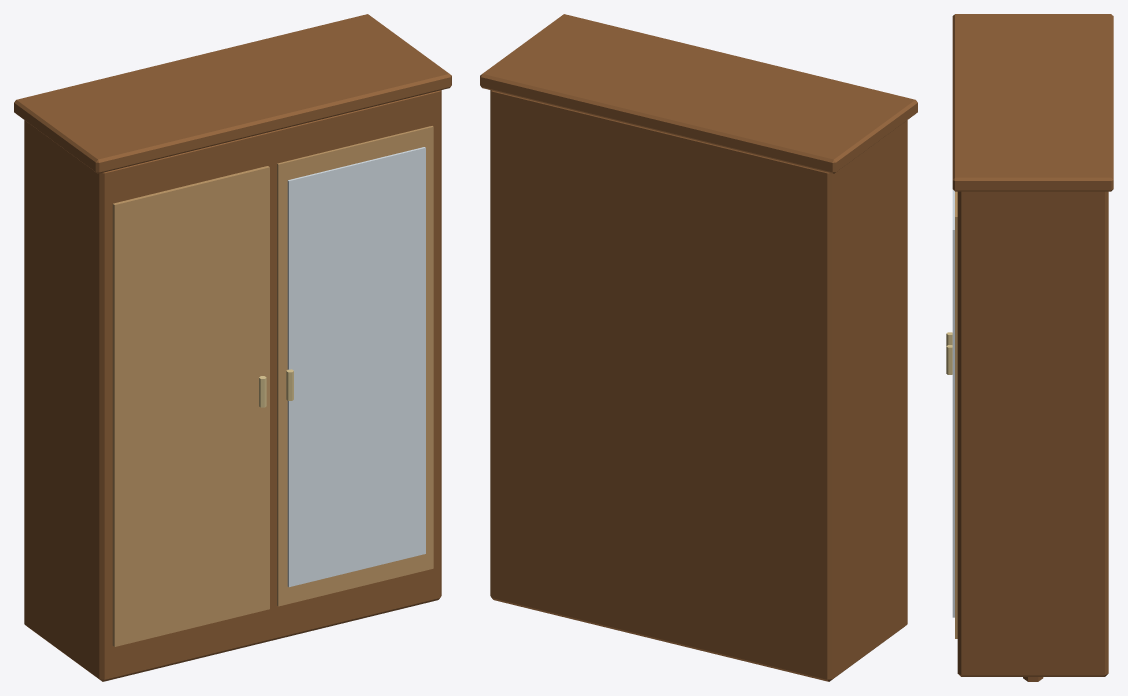
Rendered from wardrobe.glb.
3 renders of one model, left to right at view 1: azimuth 30°, elevation 25°; view 2: azimuth 150°, elevation 25°; view 3: azimuth 270°, elevation 25°, orthographic. The views are drawn at different scales.
Parts seen in each view (by area): view 1: wardrobe; view 2: wardrobe; view 3: wardrobe.
Part boxes in pixels (left/top/right/bottom): wardrobe: left=14, top=14, right=451, bottom=681; wardrobe: left=480, top=14, right=917, bottom=681; wardrobe: left=946, top=14, right=1113, bottom=681.
Bounding box in the file's own units: 1.56 × 2.25 × 0.665.
